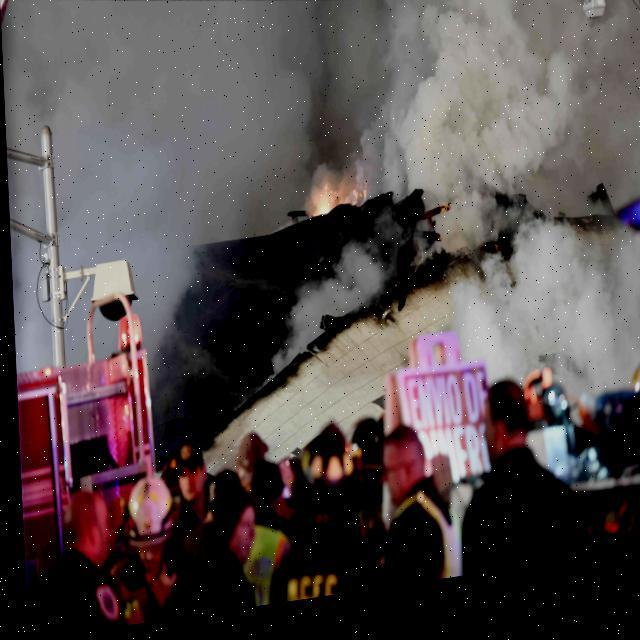Fire: (299, 168, 379, 230)
